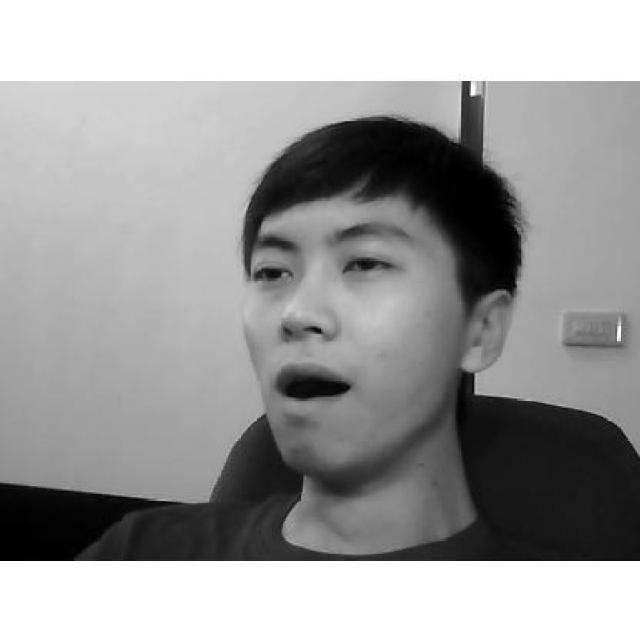inattentif: (248, 116, 512, 470)
